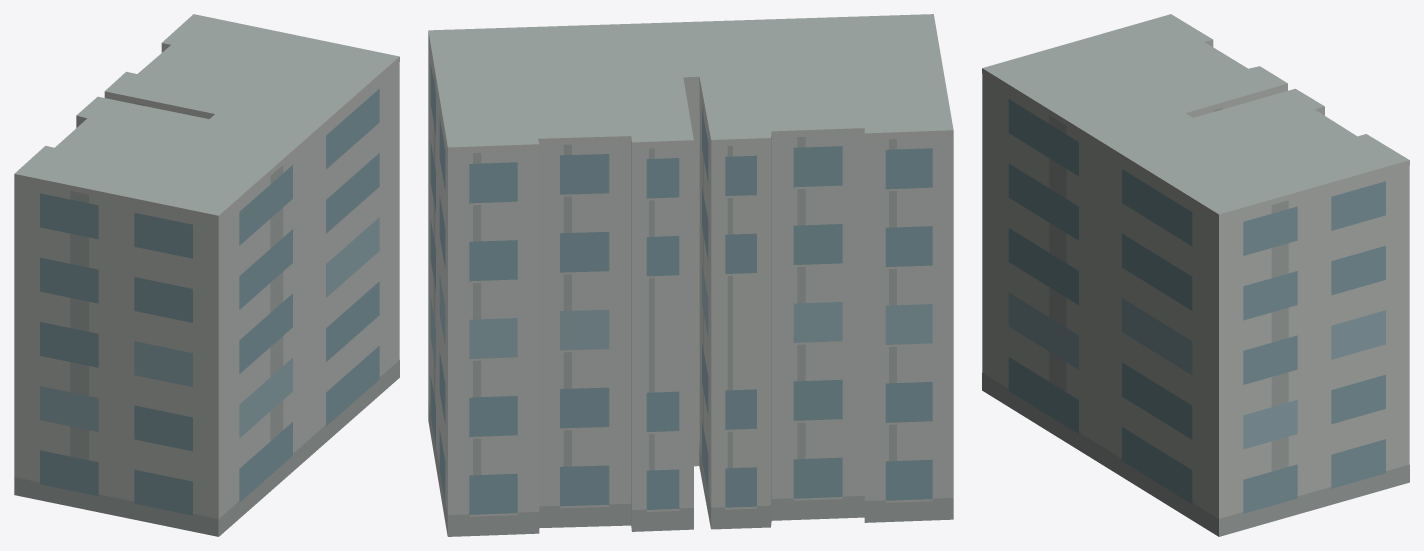
File: survey-upis-32983588.glb
3 views of the same model, side by side, from view 1: azimuth 30°, elevation 25°; view 2: azimuth 150°, elevation 25°; view 3: azimuth 270°, elevation 25° (orthographic). The views are drawn at different scales.
Visible parts, largest first — view 1: survey-upis-32983588.tmp; view 2: survey-upis-32983588.tmp; view 3: survey-upis-32983588.tmp.
Part boxes in pixels (x1,y1,x2,y2): survey-upis-32983588.tmp: (14,14,399,536); survey-upis-32983588.tmp: (428,14,953,536); survey-upis-32983588.tmp: (982,14,1409,536).
Size of the model in its own units: 18.95 by 14.2 by 17.08.
